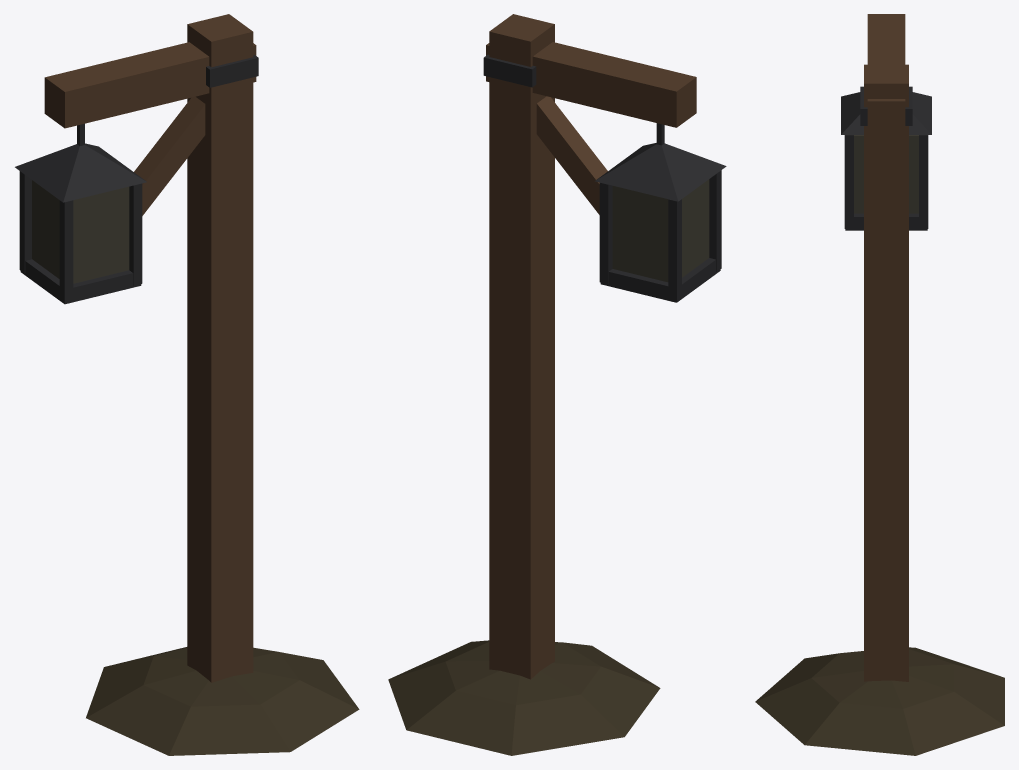
Rendered from lantern_post.glb.
The picture shows the model from 3 angles, left to right: view 1: azimuth 30°, elevation 25°; view 2: azimuth 150°, elevation 25°; view 3: azimuth 270°, elevation 25°; orthographic projection. The views are drawn at different scales.
Visible parts, largest first — view 1: Post, Glass; view 2: Post, Glass; view 3: Post, Glass.
Part boxes in pixels (x1,y1,x2,y2): Post: (15,14,359,755); Glass: (32,180,129,283); Post: (388,14,726,755); Glass: (612,179,709,282); Post: (755,14,1004,755); Glass: (854,135,918,213).
Size of the model in its own units: 0.8622 by 1.85 by 0.6653.
